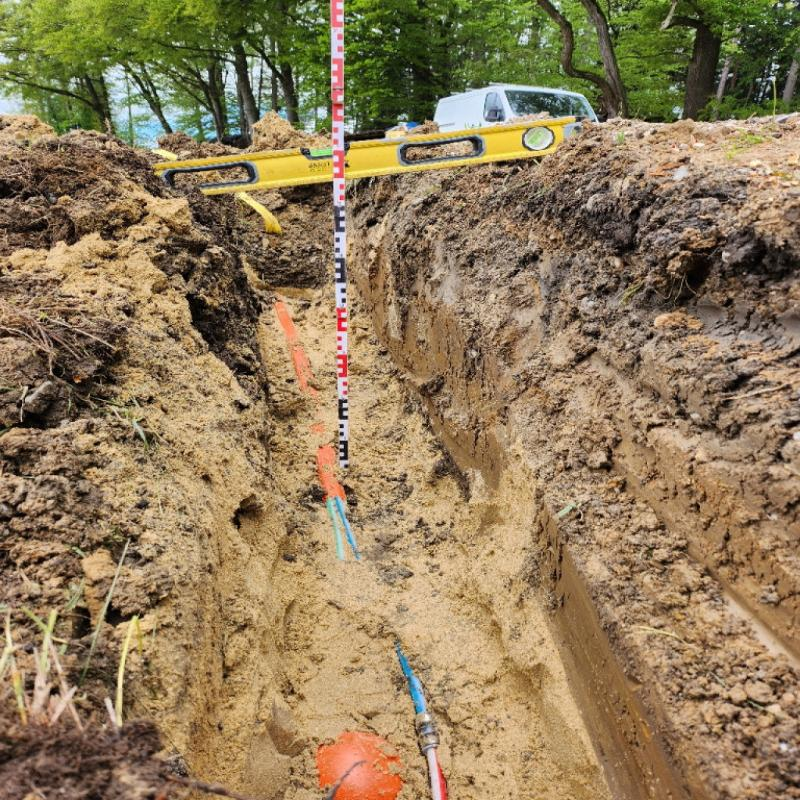Kugelmarker: (313, 731, 403, 800)
Orang-Speednetrohrchen: (273, 303, 346, 497)
